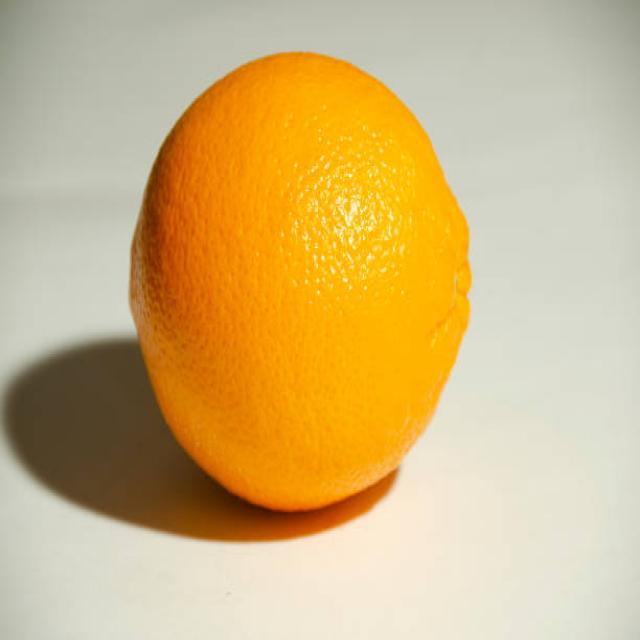Ripe: (123, 51, 475, 518)
